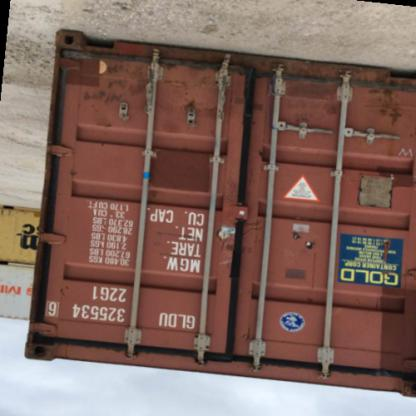Damage: (271, 72, 406, 146), (73, 58, 155, 138), (181, 59, 240, 137), (220, 206, 262, 284)
